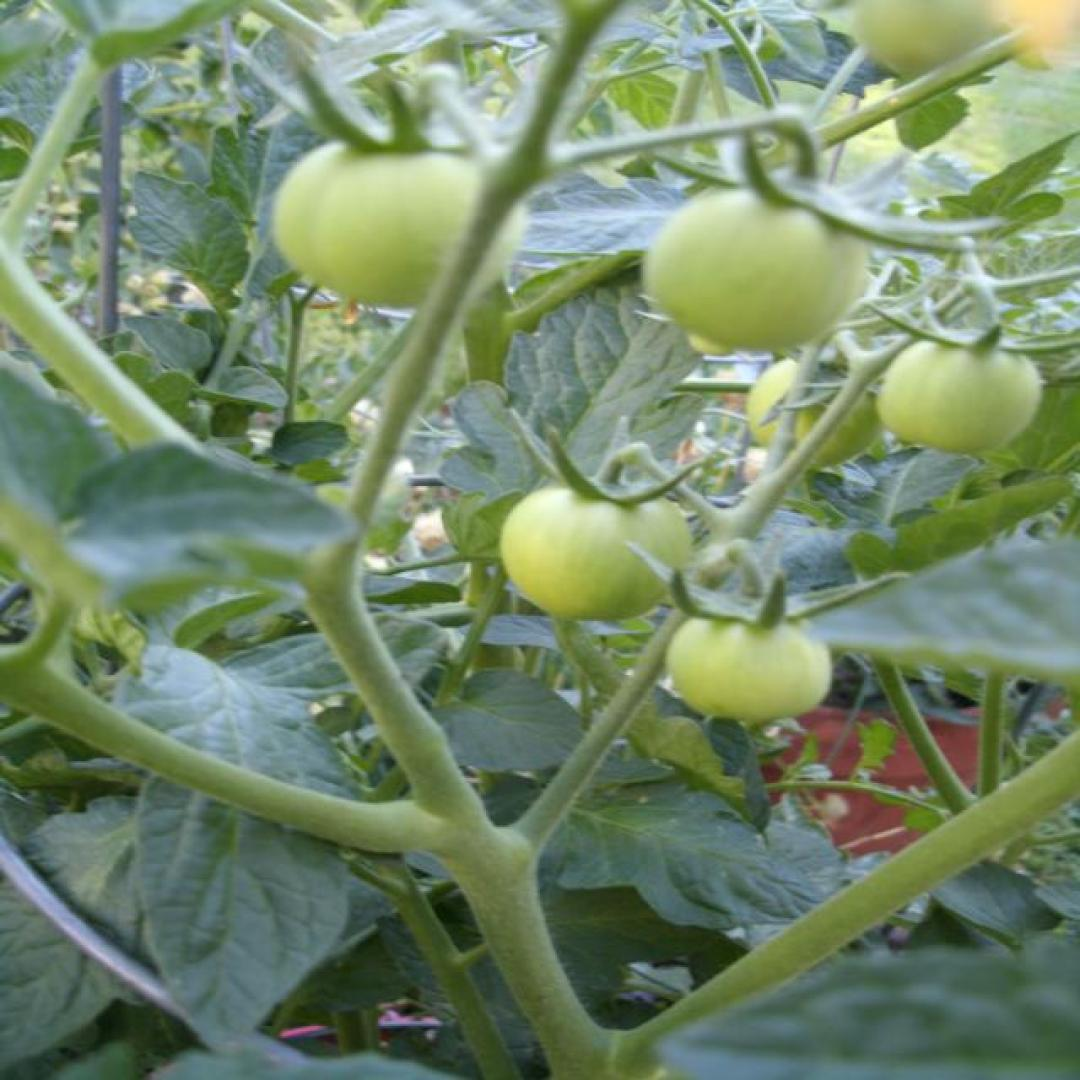mentah: (268, 135, 530, 309), (643, 188, 871, 342), (499, 483, 692, 621), (872, 335, 1044, 456)
